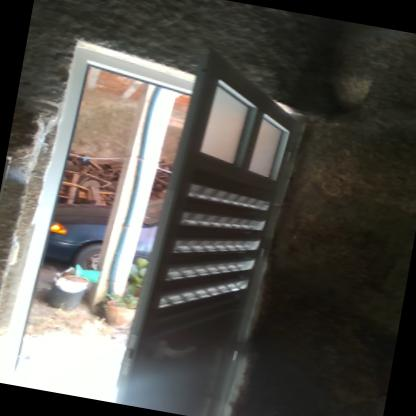semi: (0, 14, 324, 415)
